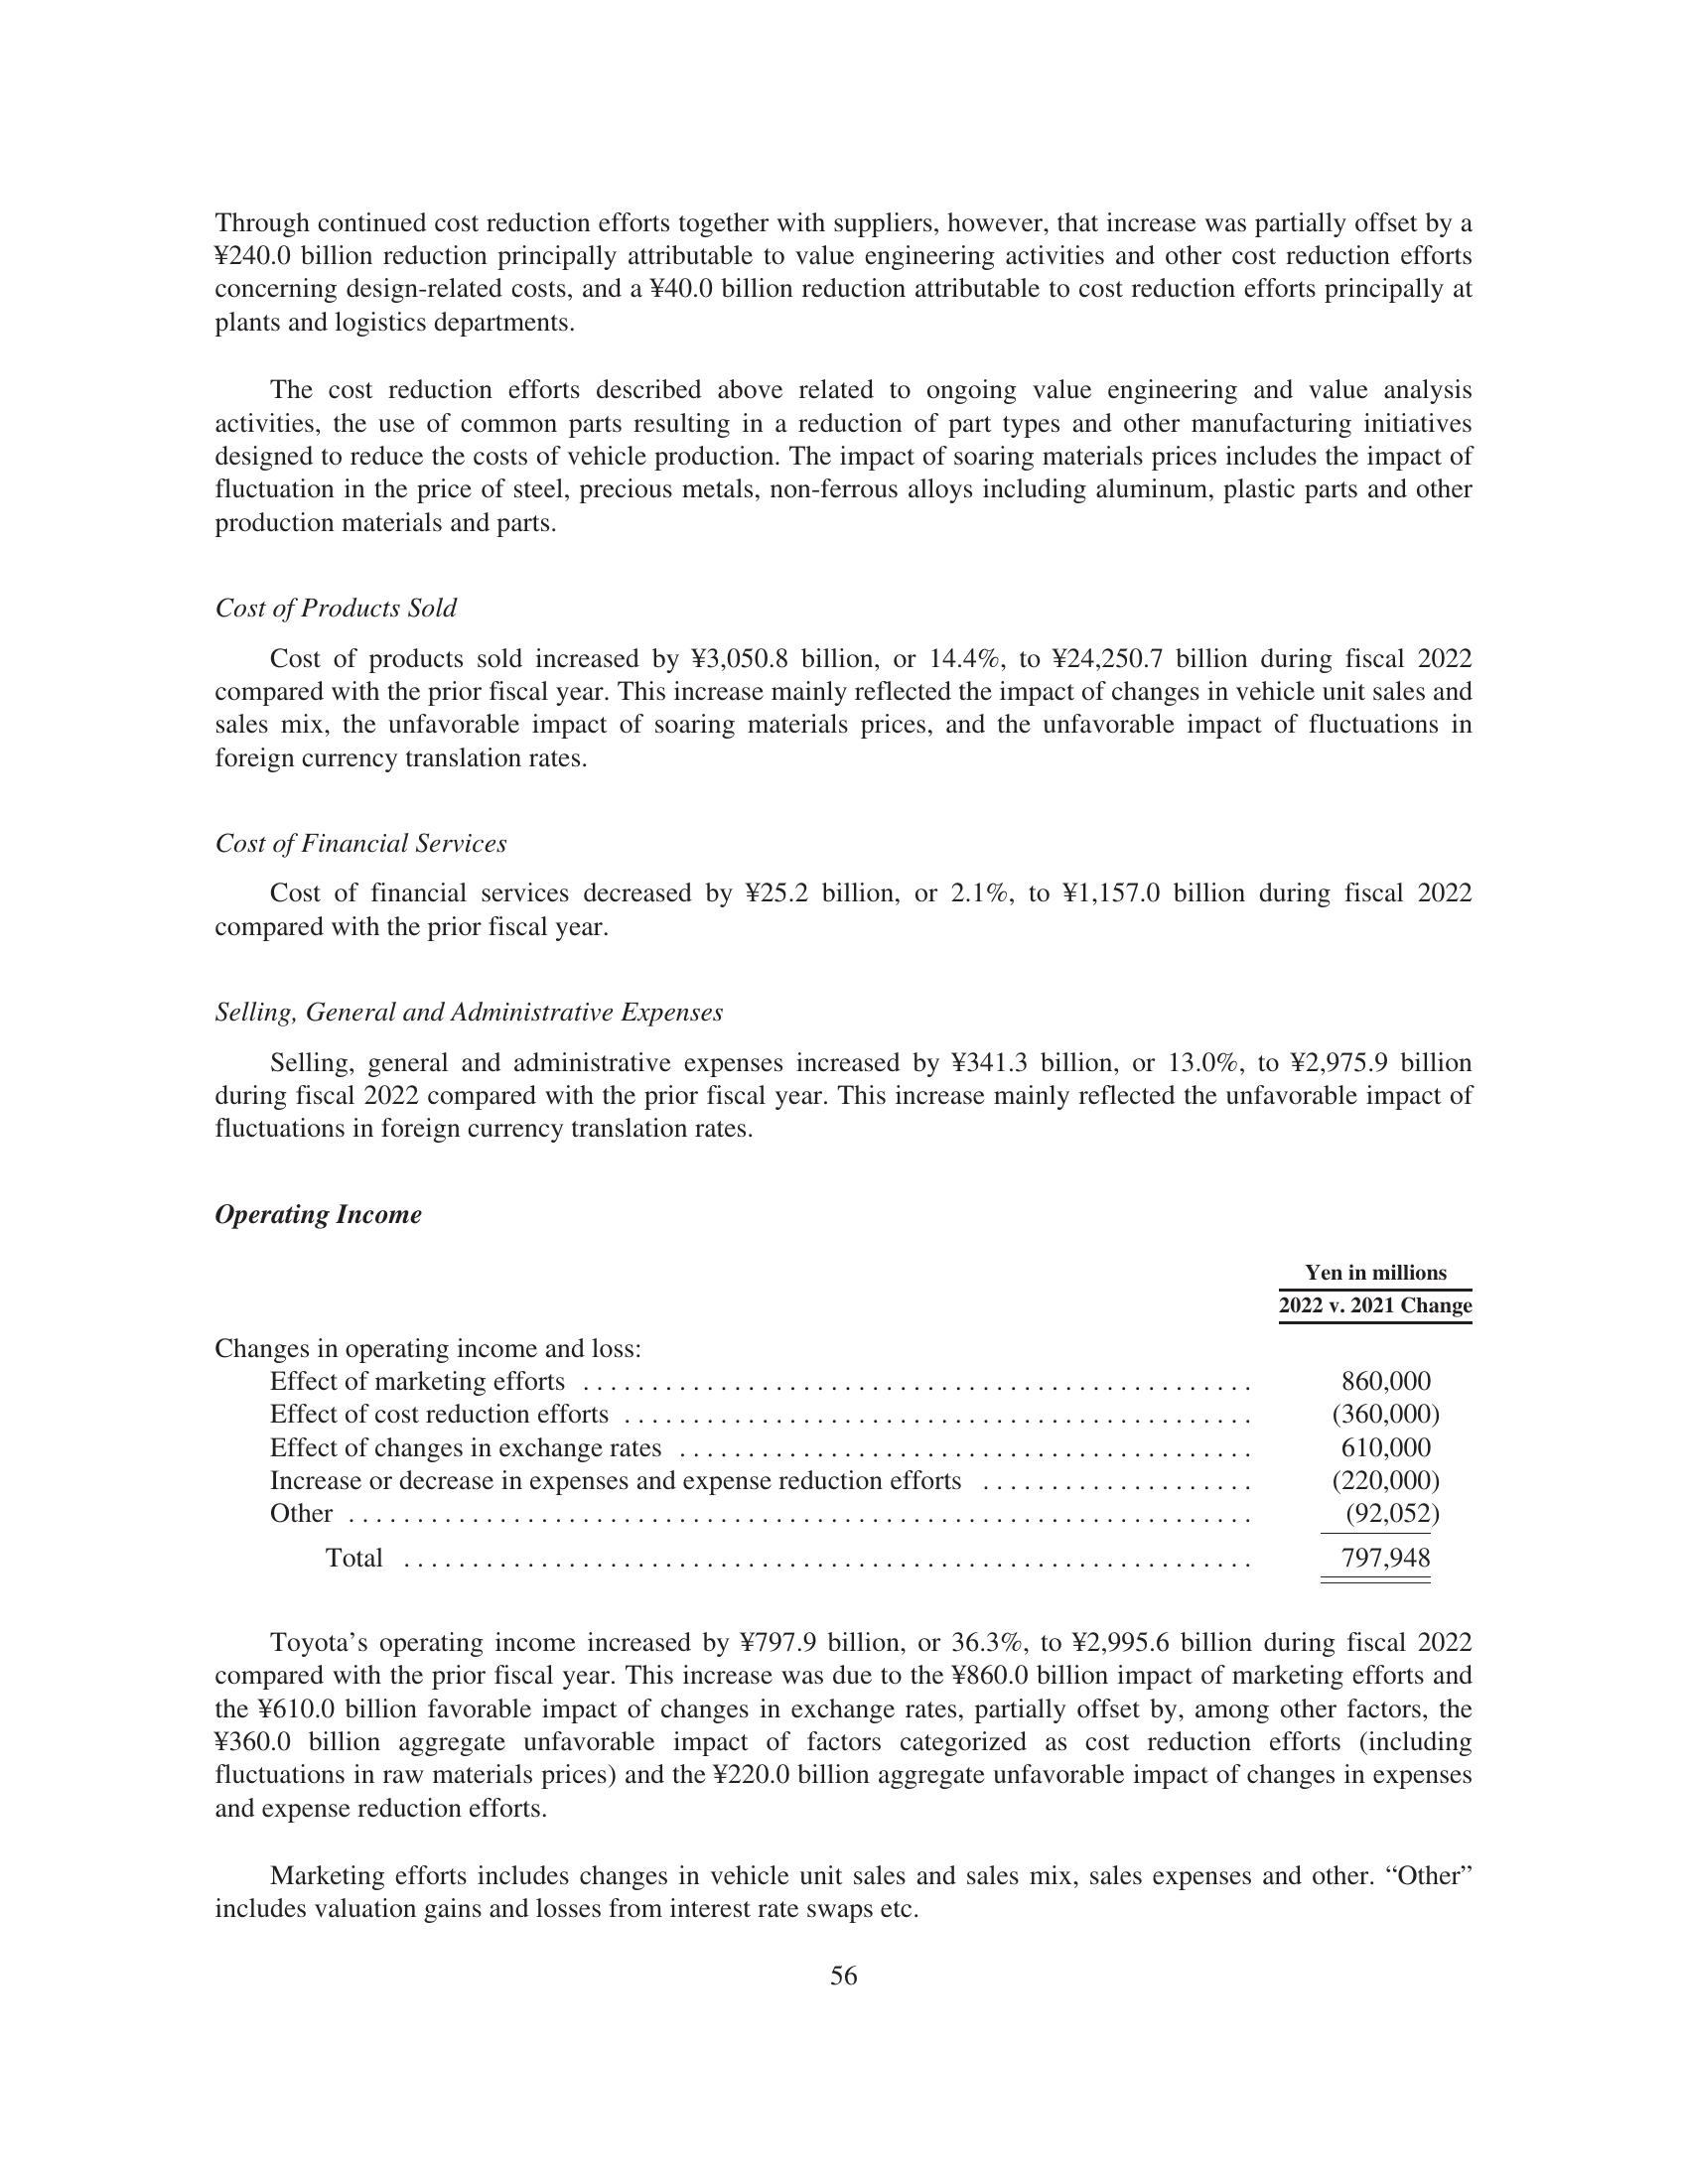Footer: (0, 1941, 1688, 2184)
Header: (0, 0, 1688, 191)
Table: (94, 1239, 1488, 1583)
